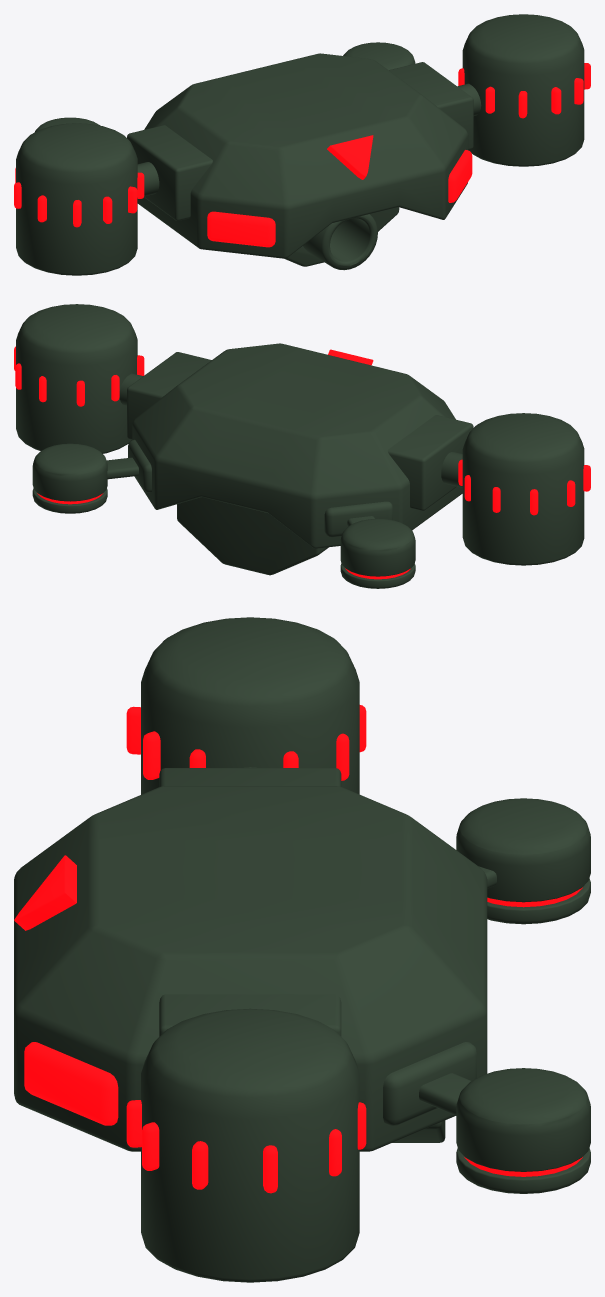
The model's file is drone.fbx.
3 views of the same model, one above another, from view 1: azimuth 30°, elevation 25°; view 2: azimuth 150°, elevation 25°; view 3: azimuth 270°, elevation 25° (orthographic). The views are drawn at different scales.
Visible parts, largest first — view 1: Cube.002; view 2: Cube.002; view 3: Cube.002.
Boxes of the visible parts, x1,y1,x2,y2 form: Cube.002: [14, 14, 590, 275]; Cube.002: [14, 304, 590, 588]; Cube.002: [14, 617, 590, 1282].
Bounding box in the file's own units: 414 × 109 × 206.
